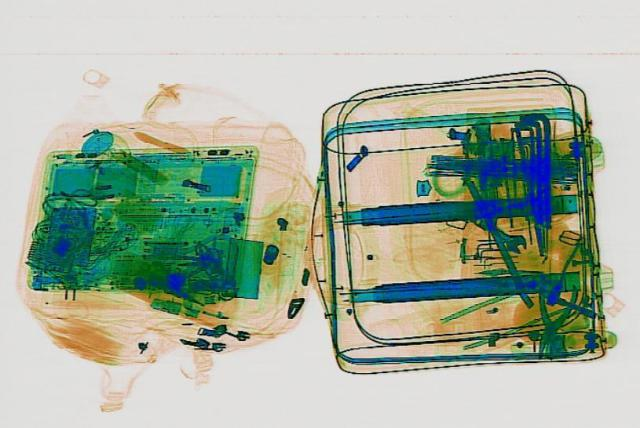Wrench: (464, 211, 534, 253)
